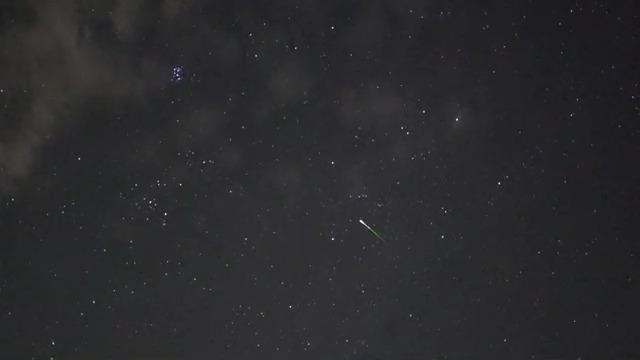meteorite: (336, 215, 400, 244)
